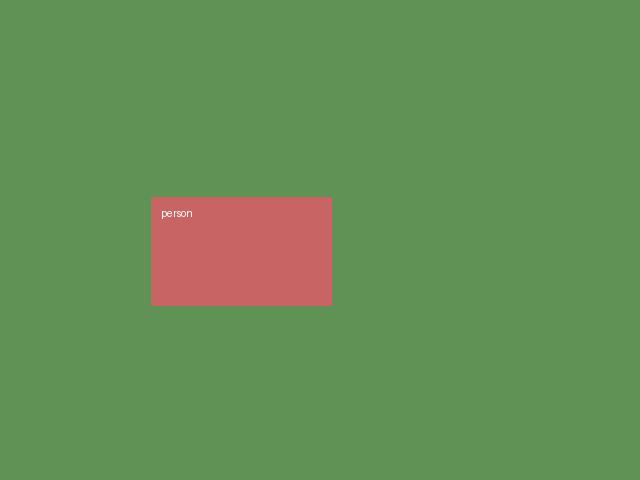person: (151, 197, 331, 305)
